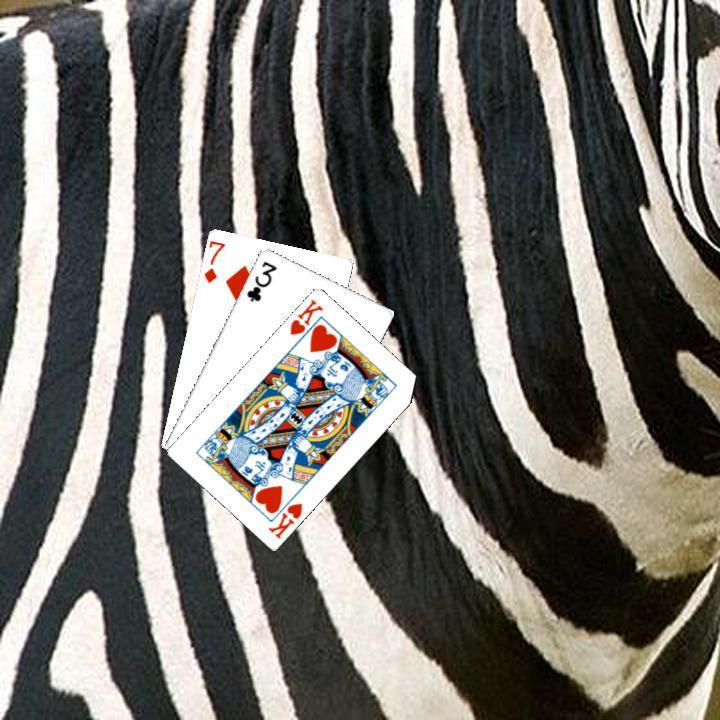3: (242, 256, 279, 303)
7: (199, 236, 227, 285)
K: (264, 498, 305, 540), (285, 294, 325, 337)
